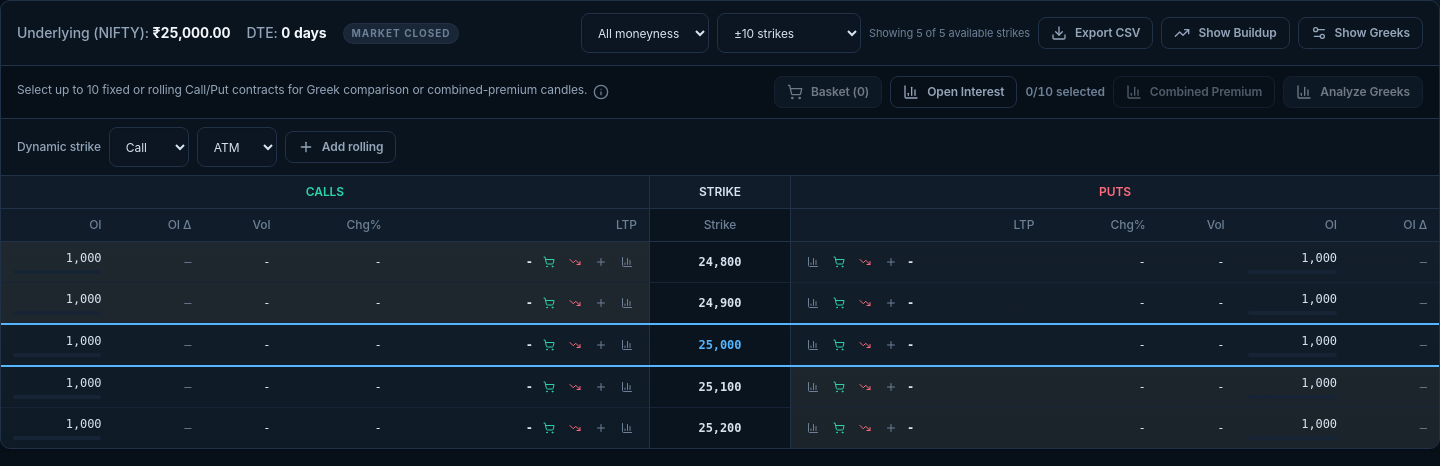
Scenario: OptionChain — basket › clicking the same contract again removes it from the basket
Click the button named "Add NSE:NIFTY27-Aug-202624900PE to basket": click(891, 303) 881,293 -> 901,313
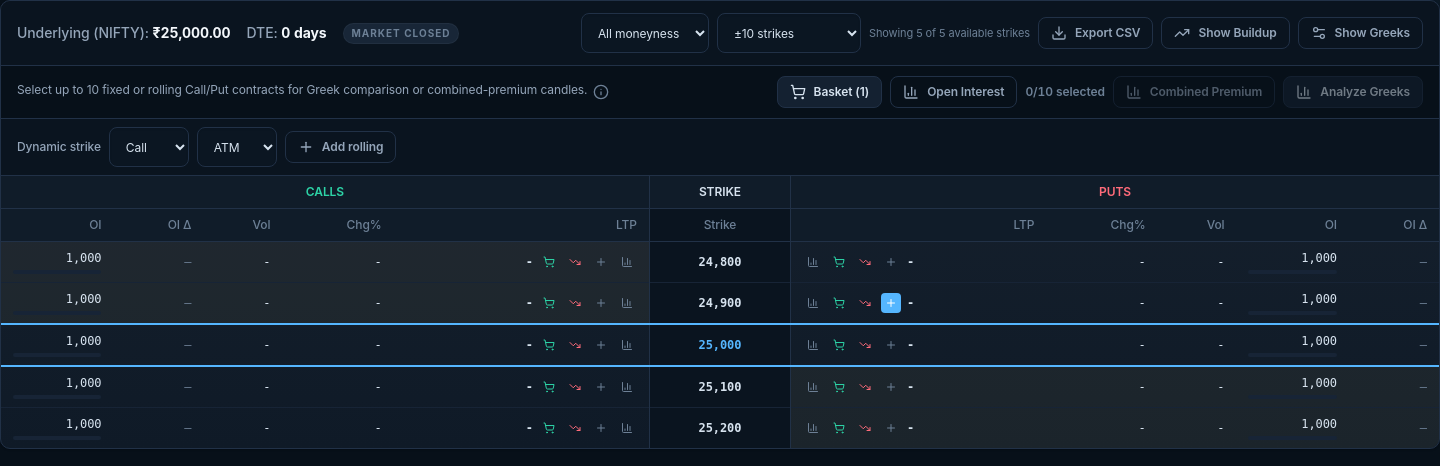
Expected: the button "Basket (1)" is shown, 777,76 -> 882,108
Click the button named "Remove NSE:NIFTY27-Aug-202624900PE from basket": click(891, 303) 881,293 -> 901,313
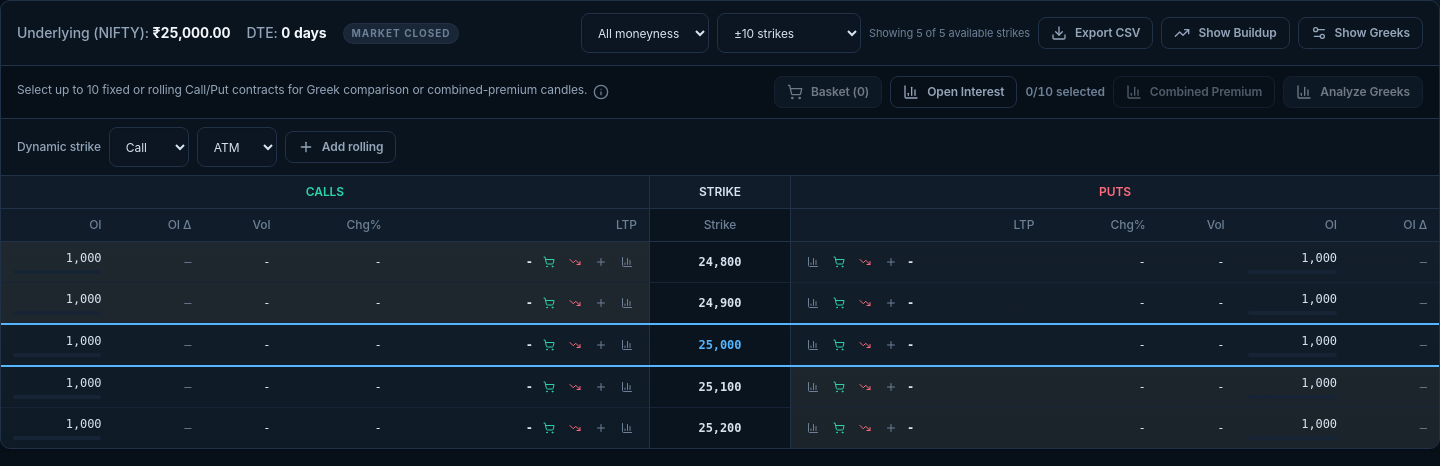
Expected: the button "Basket (0)" is shown, 774,76 -> 882,108
